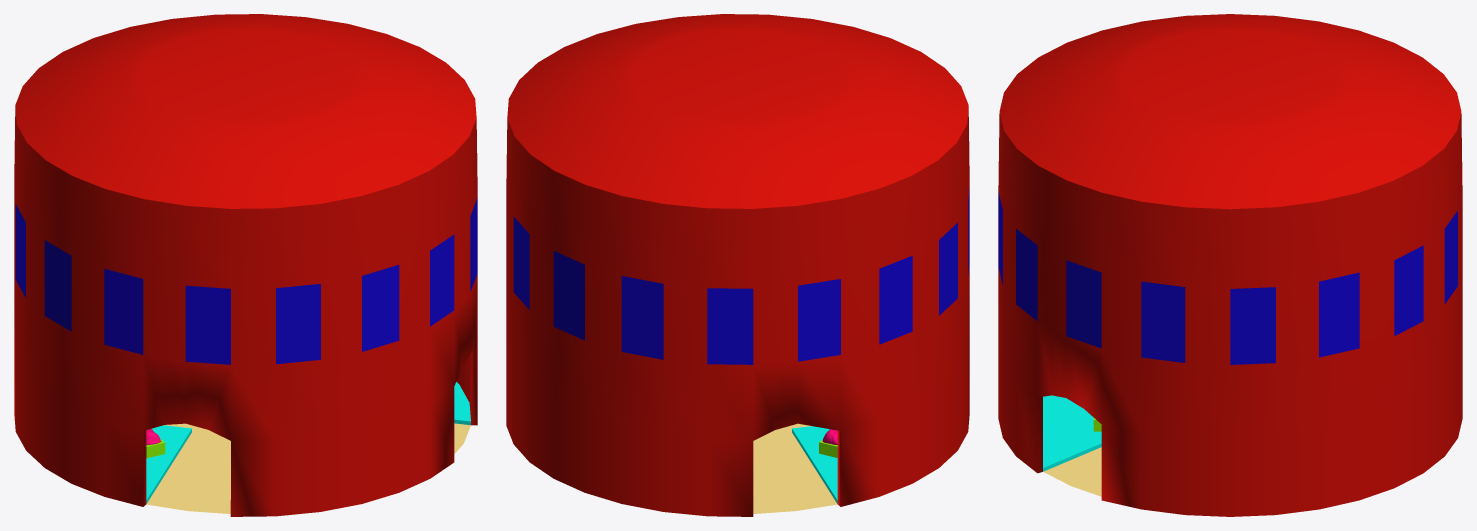
File: garden.fbx
3 renders of one model, left to right at view 1: azimuth 30°, elevation 25°; view 2: azimuth 150°, elevation 25°; view 3: azimuth 270°, elevation 25°, orthographic.
Visible parts, largest first — view 1: building, garden_floor; view 2: building, garden_floor; view 3: building, garden_floor.
Part boxes in pixels (x1,y1,x2,y2): building: [14, 14, 477, 516]; garden_floor: [146, 382, 470, 513]; building: [506, 14, 969, 516]; garden_floor: [753, 423, 837, 513]; building: [998, 14, 1462, 516]; garden_floor: [1043, 395, 1101, 496].
Size of the model in its own units: 2060 by 1689 by 2060.
